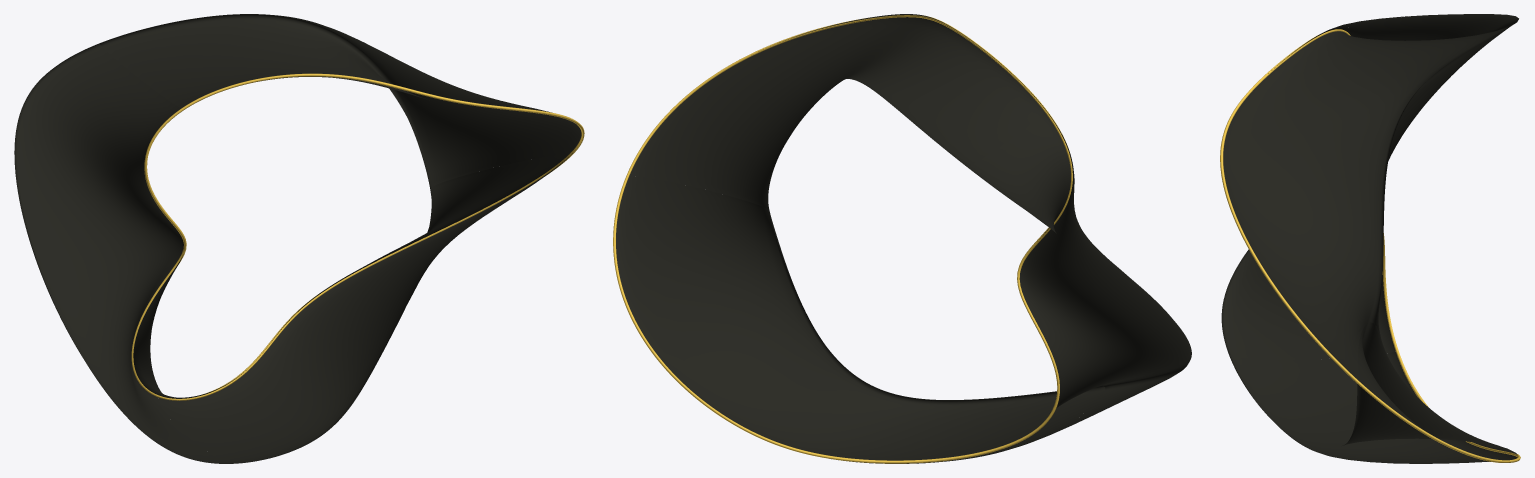
File: unda-sculpture.glb
3 renders of one model, left to right at view 1: azimuth 30°, elevation 25°; view 2: azimuth 150°, elevation 25°; view 3: azimuth 270°, elevation 25°, orthographic. The views are drawn at different scales.
Visible parts, largest first — view 1: Ribbon_1, Ribbon_2, Ribbon_0, Gold_Seam; view 2: Ribbon_2, Ribbon_0, Ribbon_1, Gold_Seam; view 3: Ribbon_0, Ribbon_2, Ribbon_1, Gold_Seam.
Boxes of the visible parts, x1,y1,x2,y2 form: Ribbon_1: (14, 43, 232, 463); Ribbon_2: (158, 154, 569, 463); Ribbon_0: (100, 14, 581, 188); Gold_Seam: (131, 73, 584, 400); Ribbon_2: (616, 176, 1105, 463); Ribbon_0: (629, 14, 1045, 210); Ribbon_1: (967, 110, 1191, 435); Gold_Seam: (613, 15, 1072, 463); Ribbon_0: (1223, 15, 1508, 383); Ribbon_2: (1229, 322, 1517, 463); Ribbon_1: (1221, 14, 1518, 359); Gold_Seam: (1220, 29, 1520, 462).
Size of the model in its own units: 3.61 by 2.5 by 1.72.
